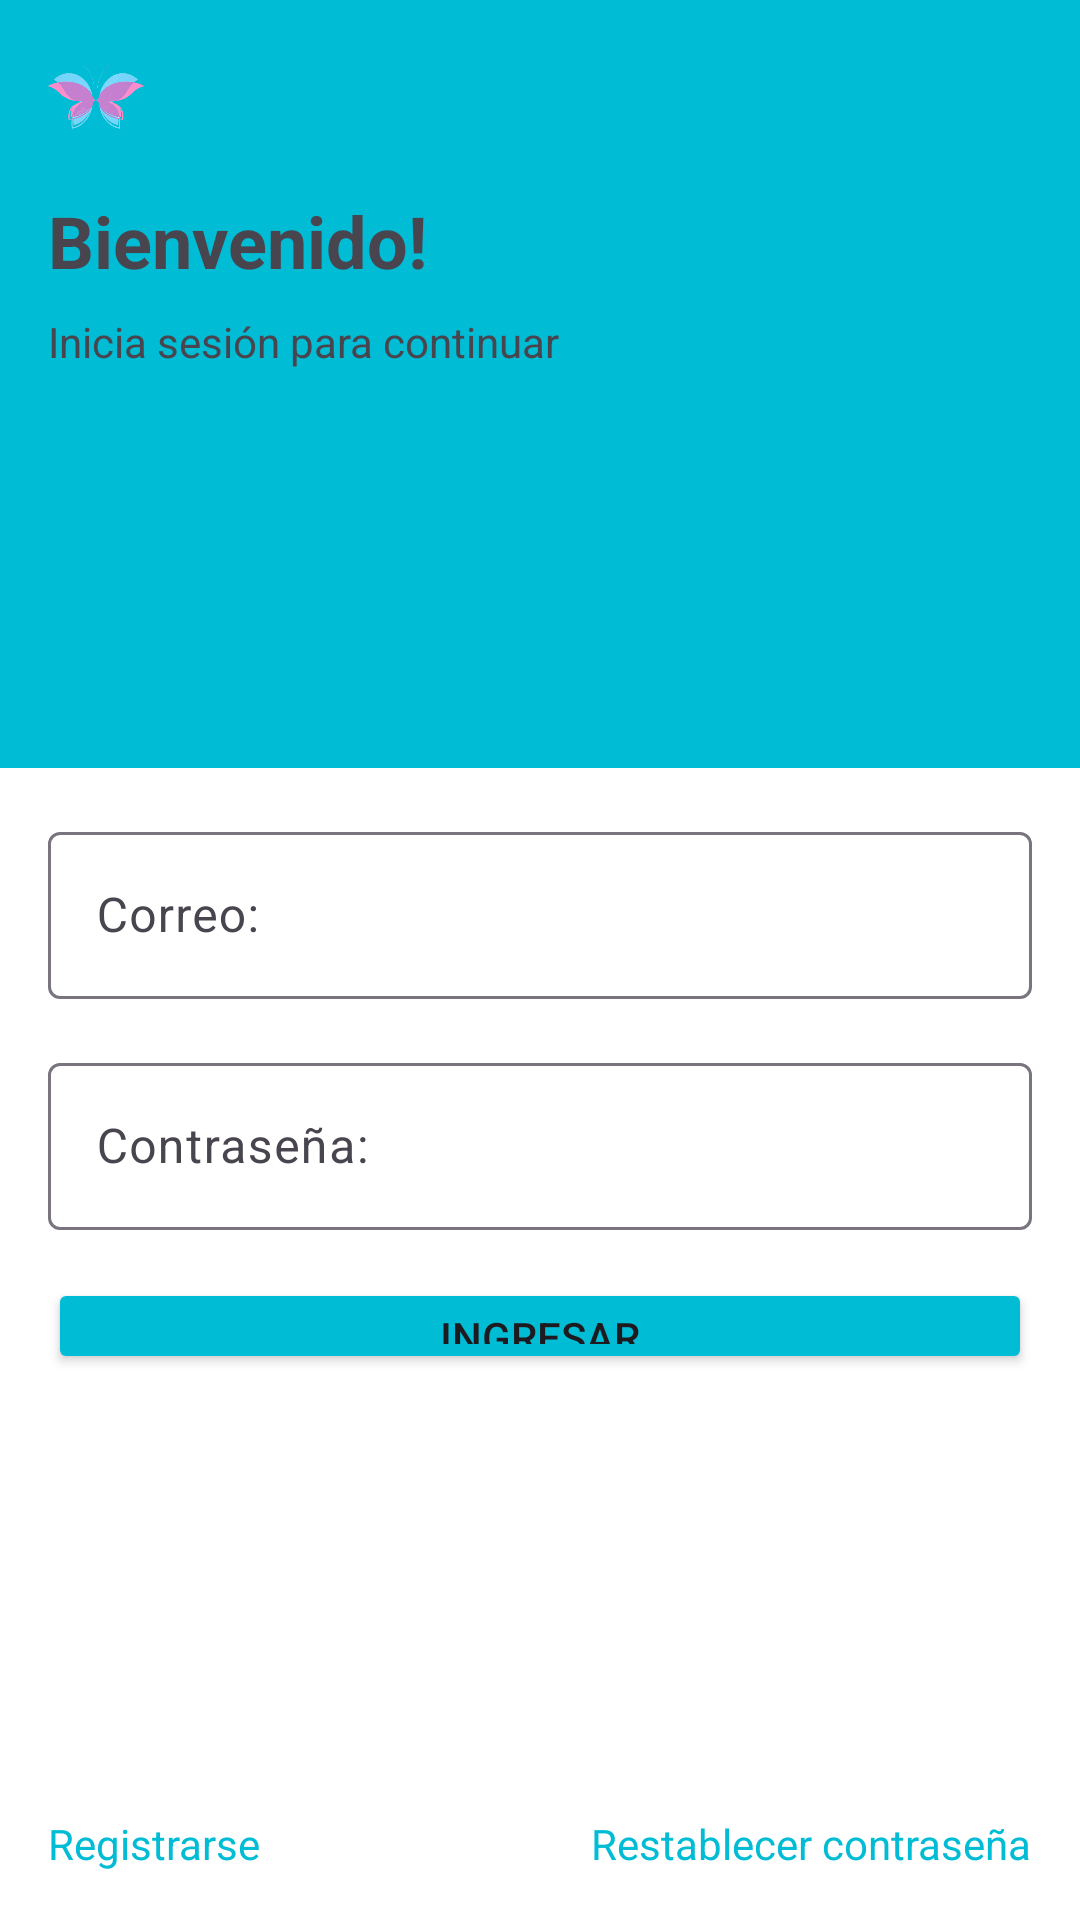

Screen size 1080x1920. Icon name, then its center in pixels as point (x, y):
butterfly: point (96, 97)
